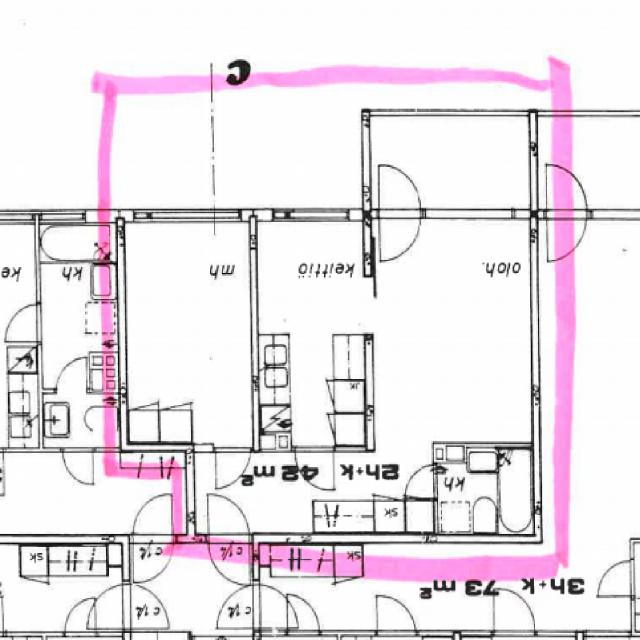door: (379, 209, 420, 265), (379, 165, 420, 221), (208, 489, 248, 544), (208, 533, 248, 587), (296, 447, 334, 492), (215, 444, 250, 490), (402, 464, 438, 498)
